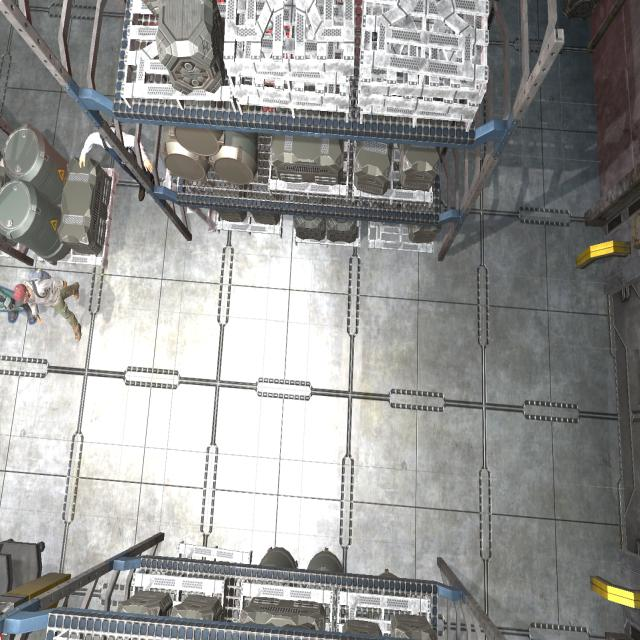thiefs: (10, 267, 86, 346)
